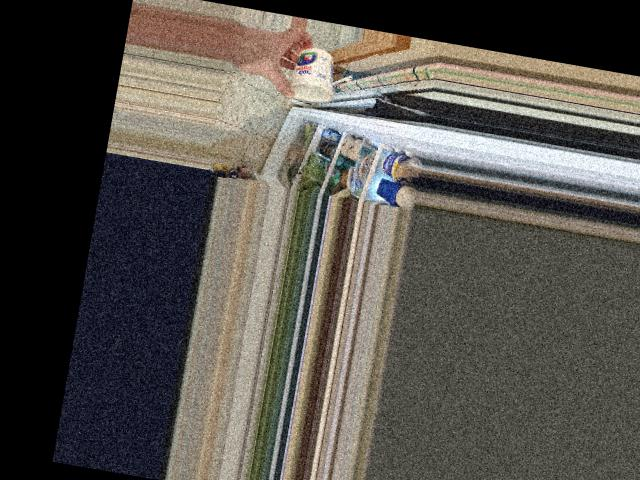cotage: (286, 42, 340, 106)
